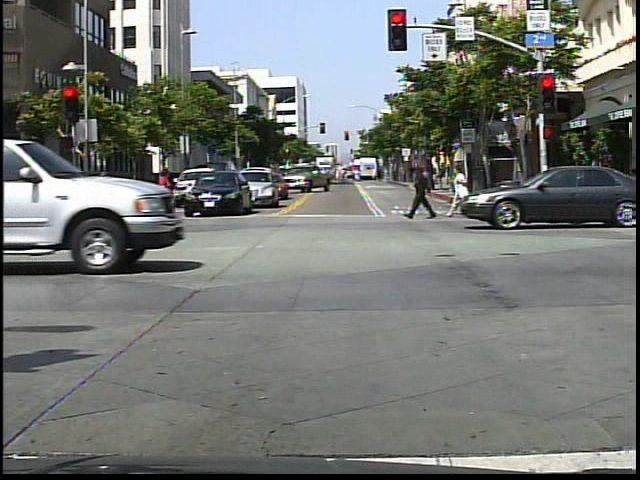person: (409, 159, 443, 223), (446, 159, 471, 219), (156, 165, 180, 221)
